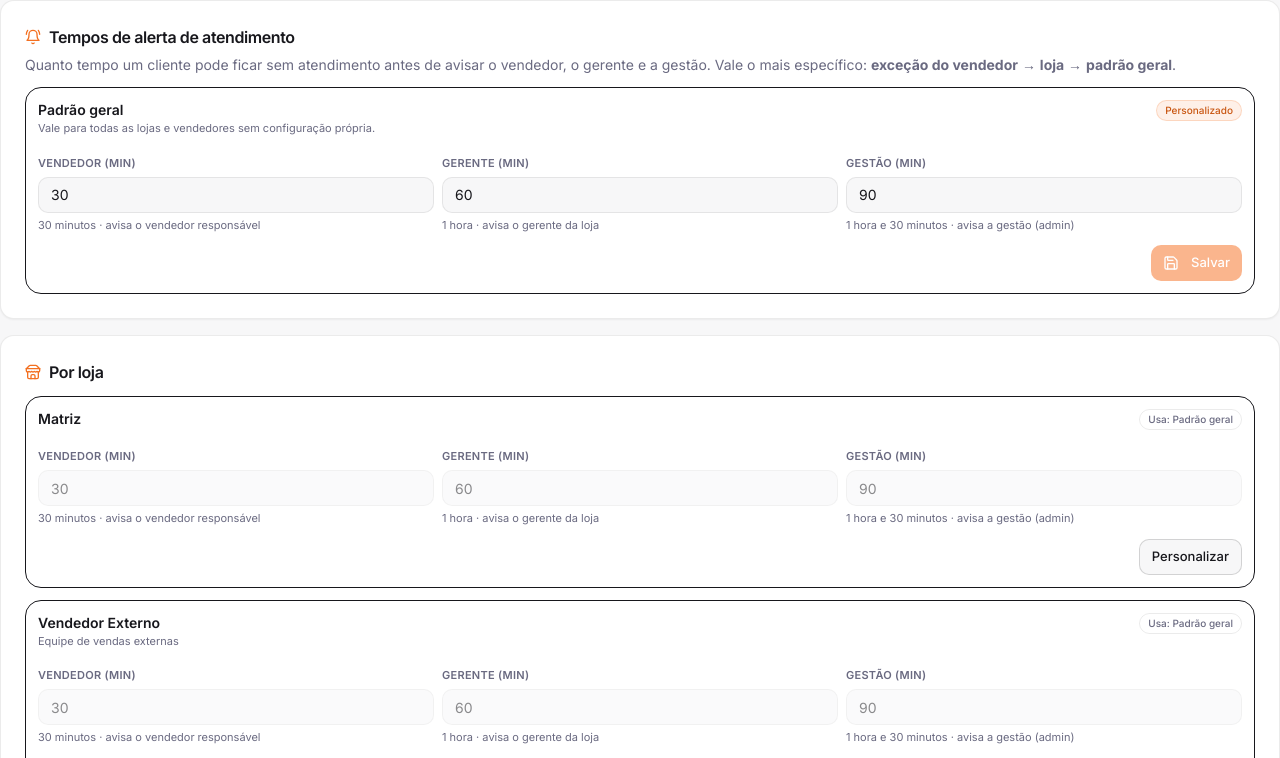
Test: AlertTimesTab › blocks saving times out of order
Replace the text in the number field named "Padrão geral — Gerente (minutos)" with "20" at (640, 194), box [442,176,838,212]
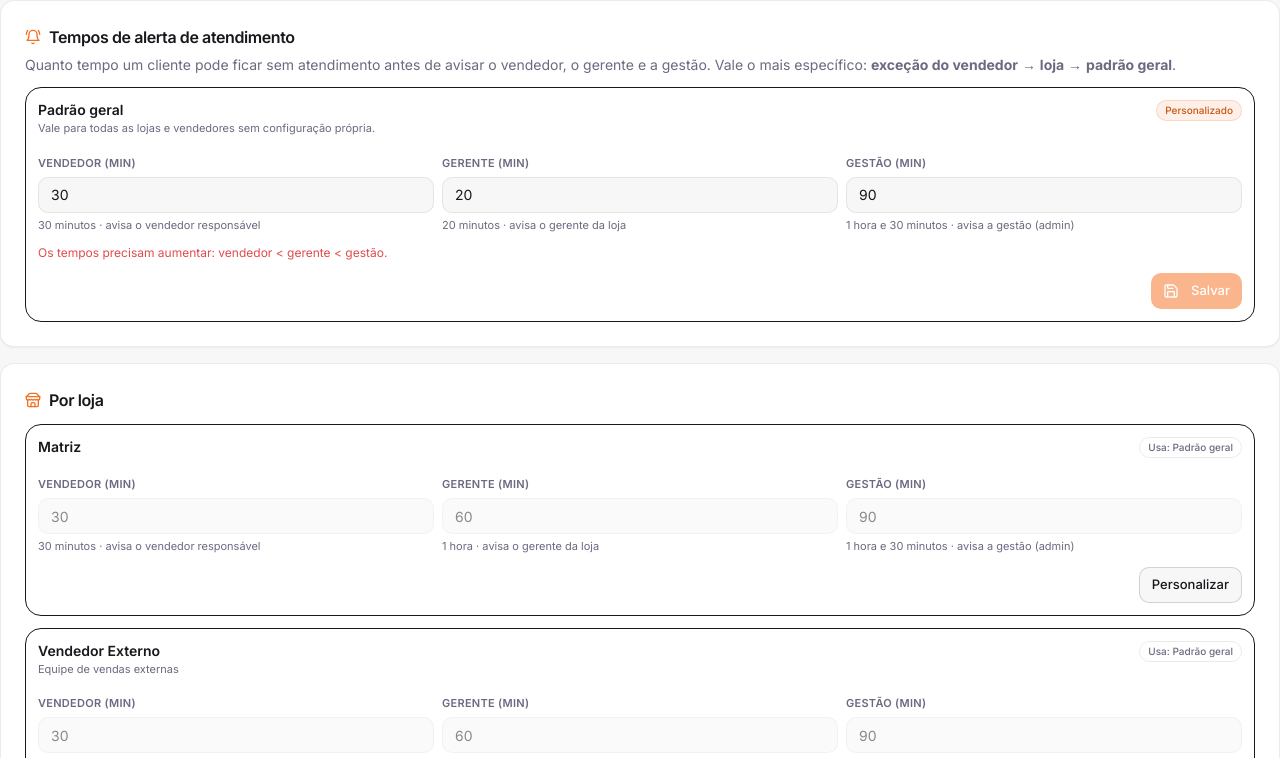
Expected: the button "Salvar" is disabled, [1151,273,1242,309]
Result: the message shows "vendedor < gerente < gestão" at [38,245,387,260]
